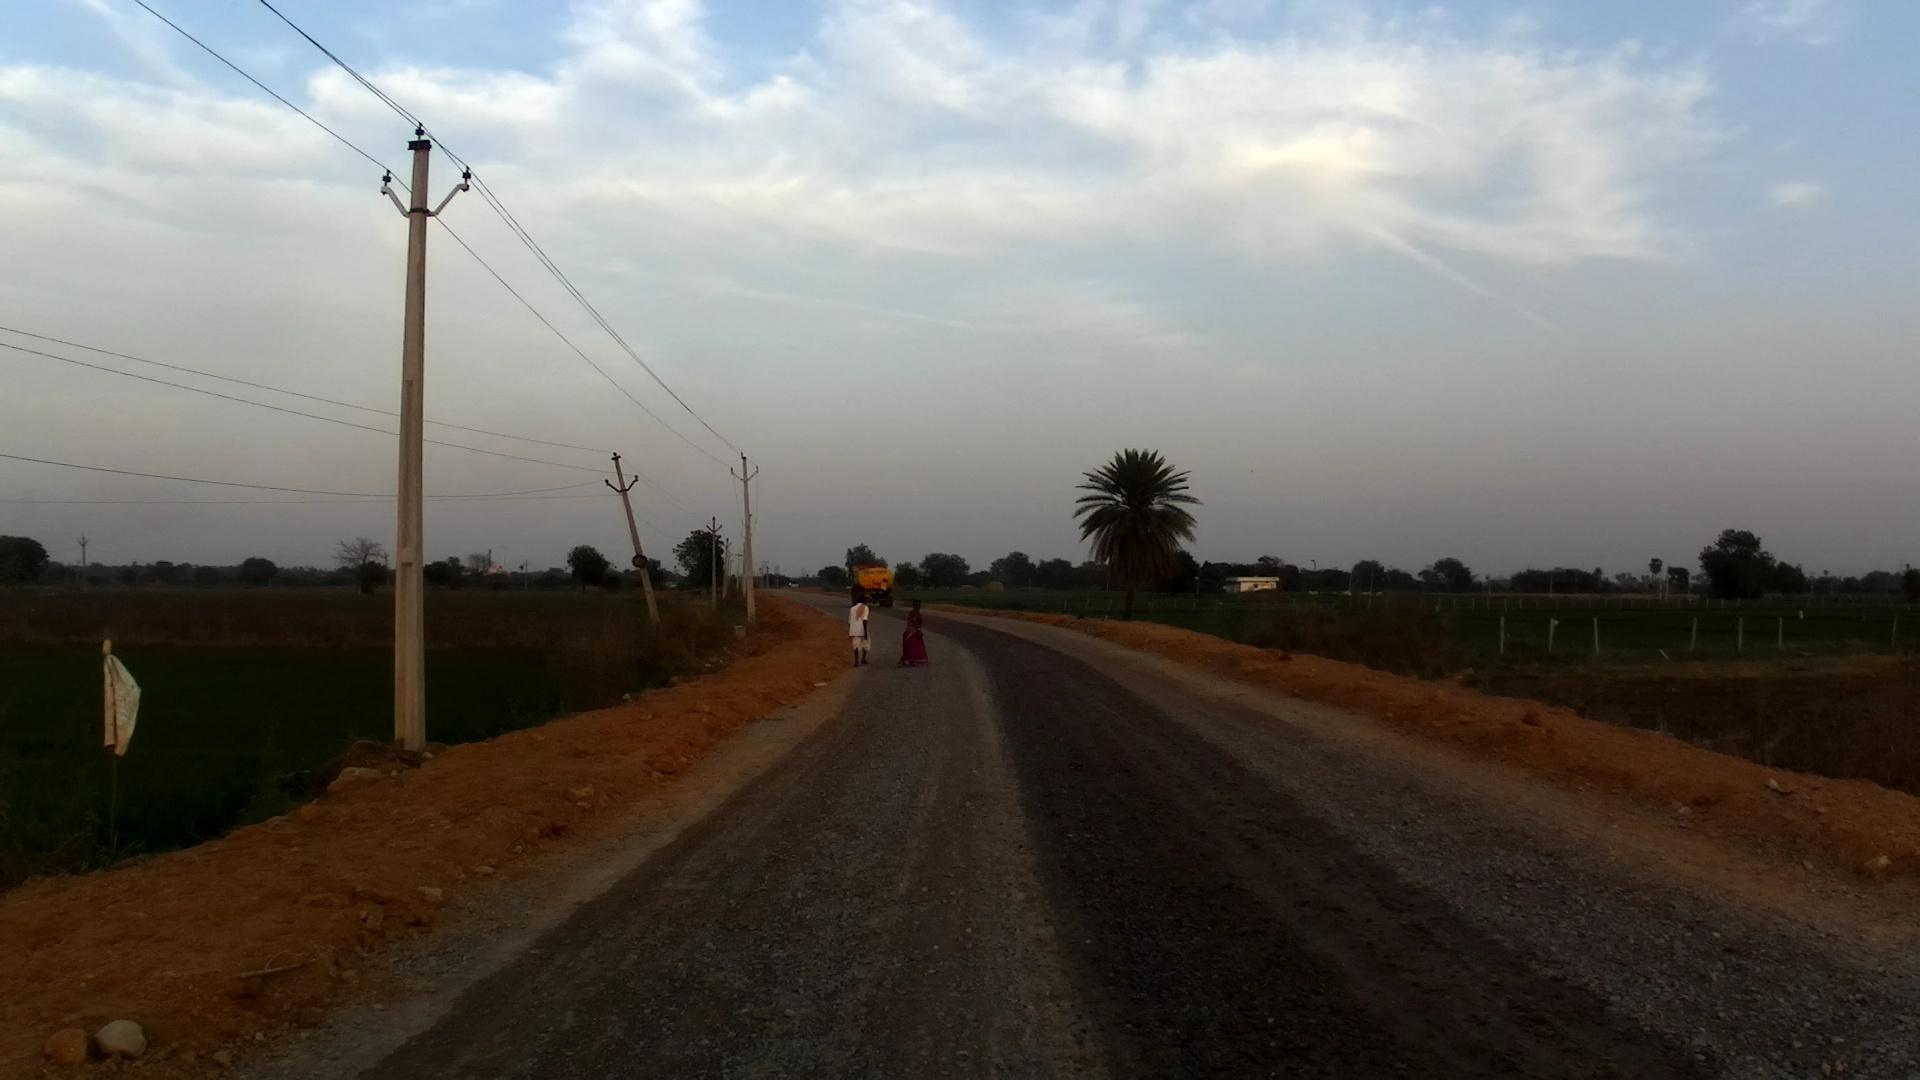person: (842, 595, 878, 667), (900, 598, 927, 673)
truck: (850, 564, 894, 612)
